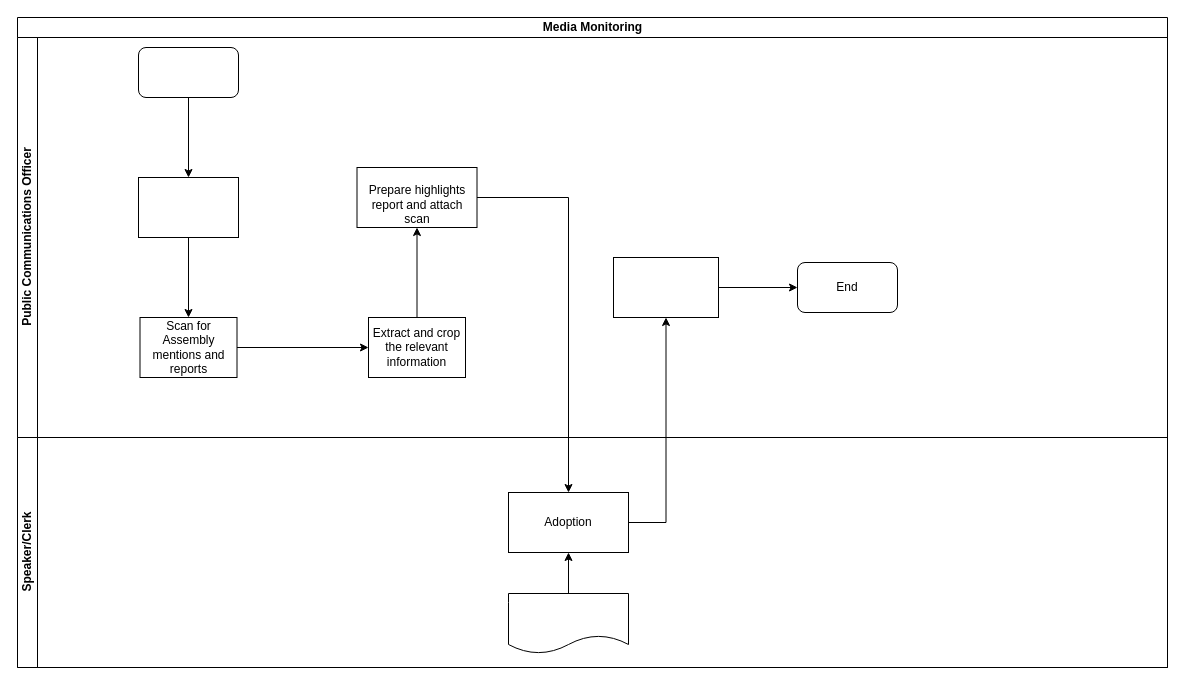
Image size: 1185x685. Some labels were removed from this diagram. Here are the shapes that lost their labels. From the top down, the centre of each, then its label:
the point at 188,72: Start
the point at 188,207: Purchase of hard copies newspapers
the point at 665,287: Archival of the information for future reference
the point at 568,623: Speaker & Clerk comments
